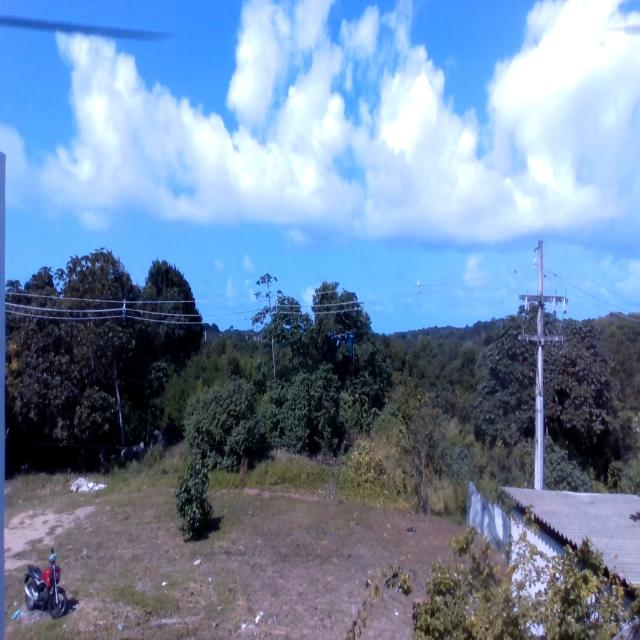-uav-: (331, 326, 357, 364)
